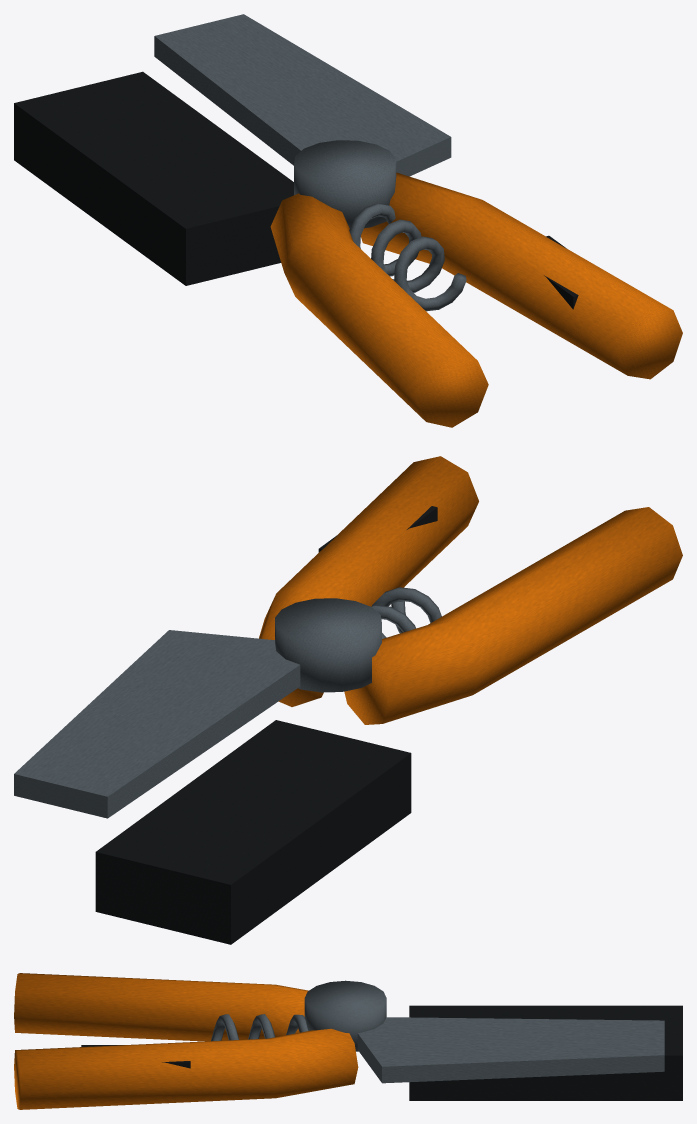
The model's file is AnvilPruners.fbx.
3 views of the same model, one above another, from view 1: azimuth 30°, elevation 25°; view 2: azimuth 150°, elevation 25°; view 3: azimuth 270°, elevation 25° (orthographic). The views are drawn at different scales.
Visible parts, largest first — view 1: AnvilPruners__Body; view 2: AnvilPruners__Body; view 3: AnvilPruners__Body.
Part boxes in pixels (box(x1,y1,x2,y2)): AnvilPruners__Body: box(14, 14, 682, 427); AnvilPruners__Body: box(14, 456, 682, 944); AnvilPruners__Body: box(14, 973, 682, 1109).
Size of the model in its own units: 7.55 by 3.36 by 20.54.
Materials: 1 (1 with a texture image).
